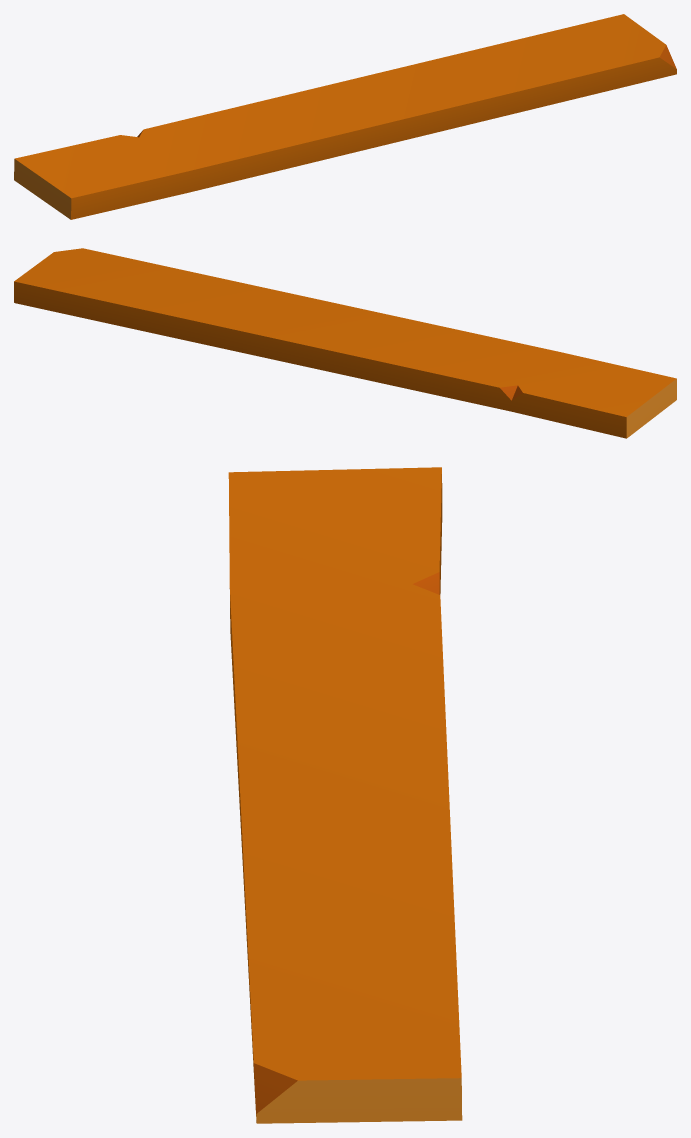
File: Plank_02.glb
The picture shows the model from 3 angles, top to bottom: view 1: azimuth 30°, elevation 25°; view 2: azimuth 150°, elevation 25°; view 3: azimuth 270°, elevation 25°; orthographic projection. The views are drawn at different scales.
Parts seen in each view (by area): view 1: Plank_02; view 2: Plank_02; view 3: Plank_02.
Part boxes in pixels (box(x1,y1,x2,y2)): Plank_02: box(14, 14, 676, 219); Plank_02: box(14, 248, 676, 438); Plank_02: box(228, 467, 462, 1123).
Size of the model in its own units: 1.58 by 0.0773 by 0.2618.
Materials: 1 (1 with a texture image).
